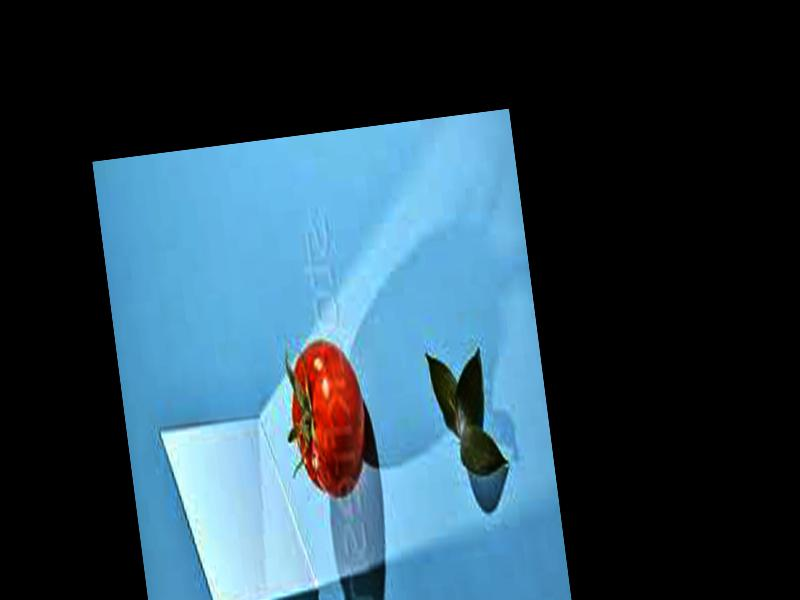Tomato: (281, 332, 375, 502)
